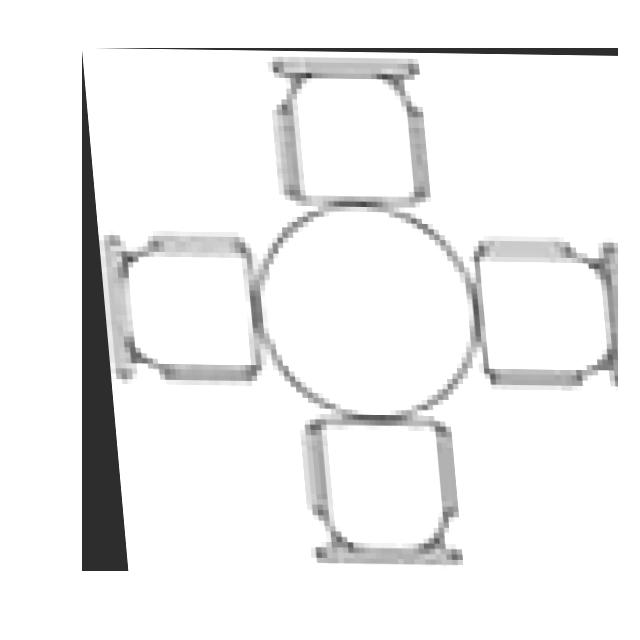table: (82, 48, 618, 571)
